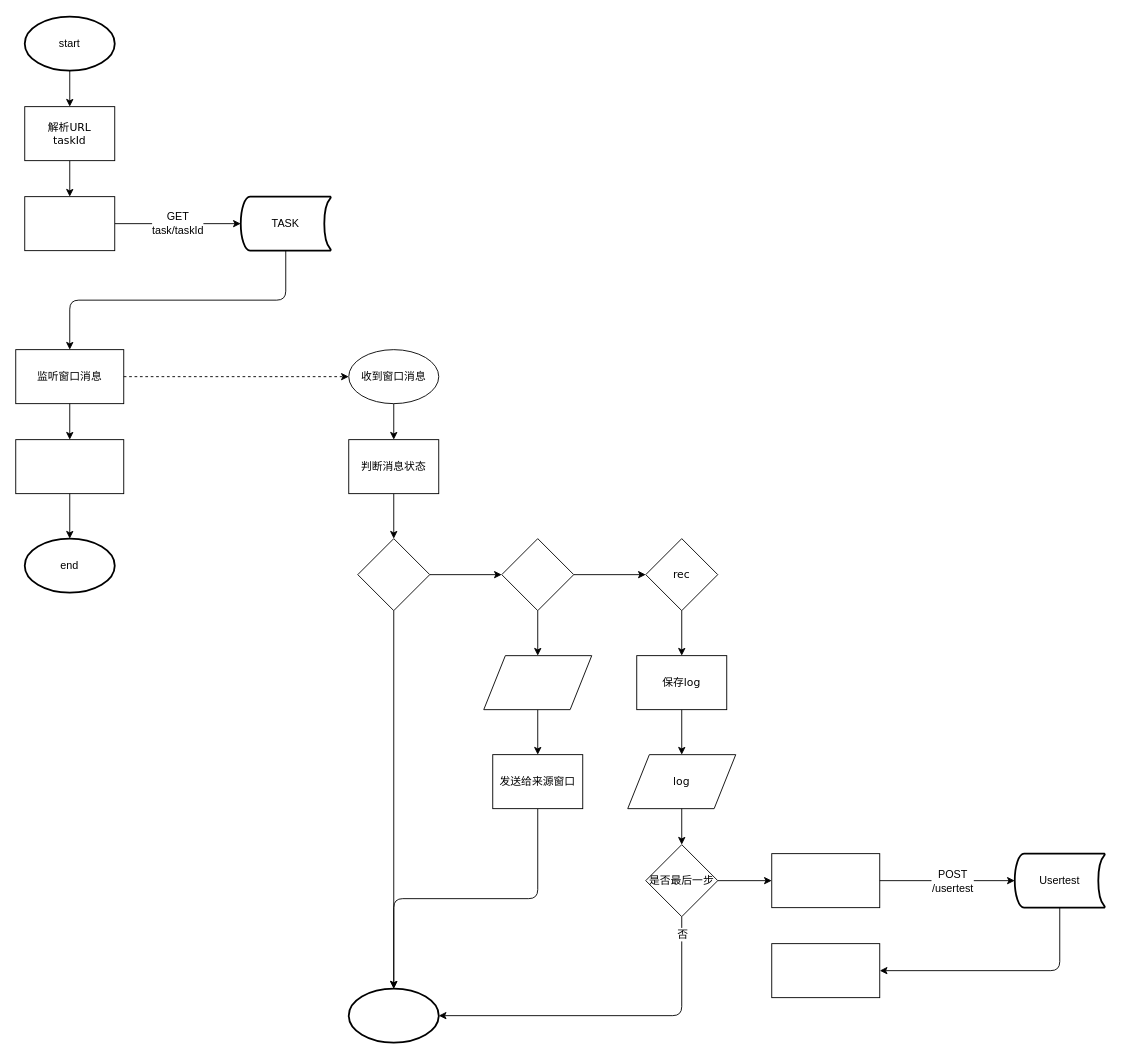
Image size: 1121x1058. Some labels were removed from this diagram. Each missing label, with the centre of its shape:
"init" goes at pixel 393 574.
"isReady" goes at pixel 537 574.
"Logs发送给服务器" goes at pixel 825 880.
"stepRec_start" goes at pixel 537 682.
"在框架中打开 任务第一页" goes at pixel 69 466.
"获取任务数据" goes at pixel 69 223.
"跳转到任务列表页" goes at pixel 825 970.
